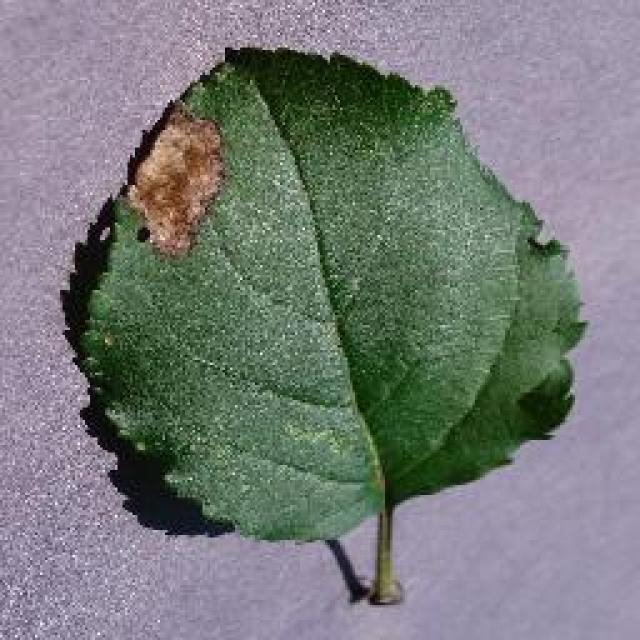apple scab disease: (60, 40, 588, 602)
